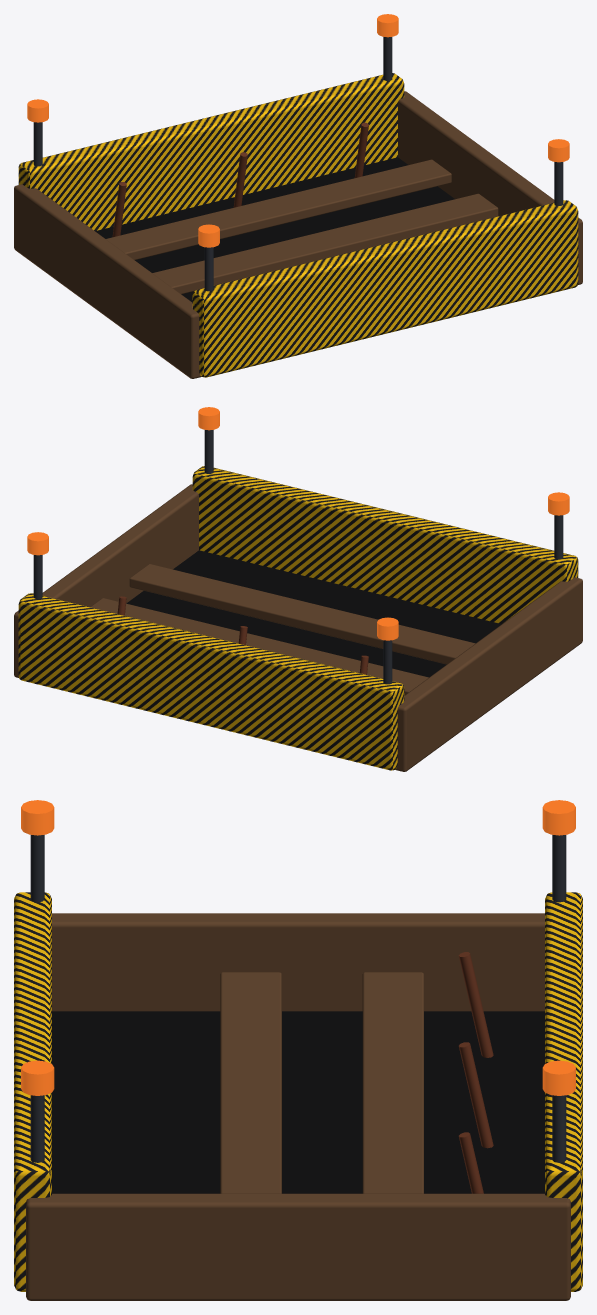
File: obstacle_trench.glb
The picture shows the model from 3 angles, top to bottom: view 1: azimuth 30°, elevation 25°; view 2: azimuth 150°, elevation 25°; view 3: azimuth 270°, elevation 25°; orthographic projection. The views are drawn at different scales.
Visible parts, largest first — view 1: Trench; view 2: Trench; view 3: Trench.
Boxes of the visible parts, x1,y1,x2,y2 form: Trench: (14, 14, 582, 378); Trench: (14, 407, 582, 771); Trench: (14, 800, 582, 1300).
Bounding box in the file's own units: 2.92 × 1.02 × 2.4.
4 materials, 1 textured.
